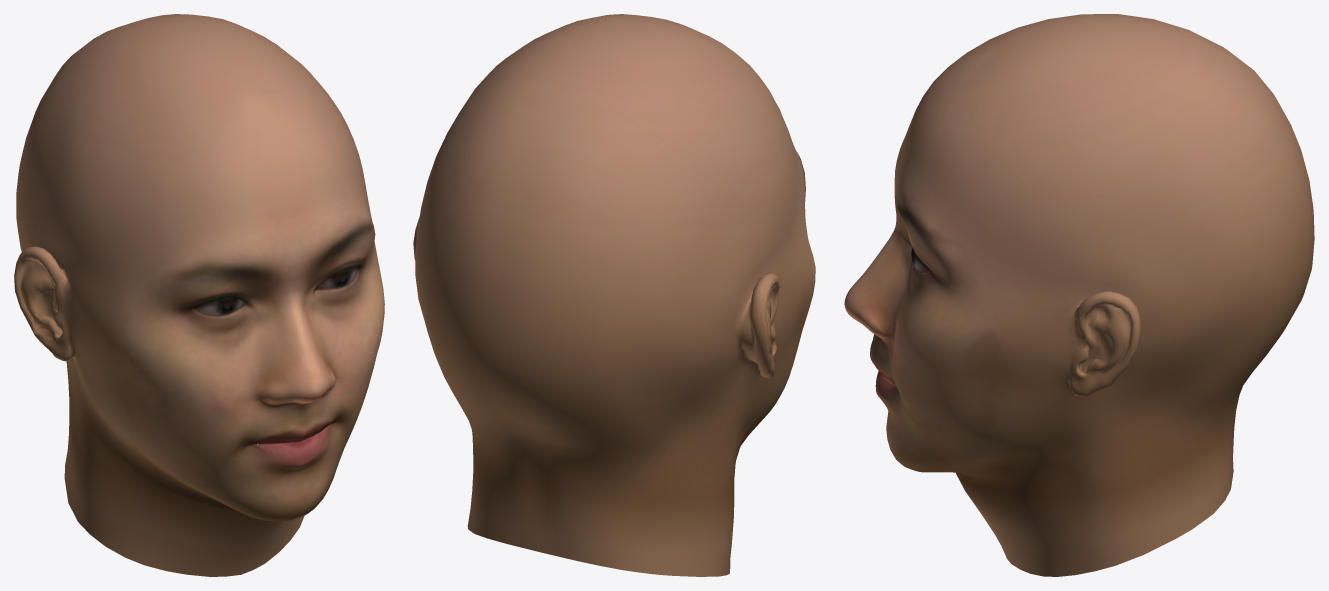
The picture shows the model from 3 angles, left to right: view 1: azimuth 30°, elevation 25°; view 2: azimuth 150°, elevation 25°; view 3: azimuth 270°, elevation 25°; orthographic projection. The views are drawn at different scales.
Parts seen in each view (by area): view 1: HeadHires; view 2: HeadHires; view 3: HeadHires.
Part boxes in pixels (x1,y1,x2,y2): HeadHires: [14, 14, 384, 576]; HeadHires: [413, 14, 815, 576]; HeadHires: [844, 14, 1314, 576].
Size of the model in its own units: 191 by 284 by 231.
1 material, 1 textured.
